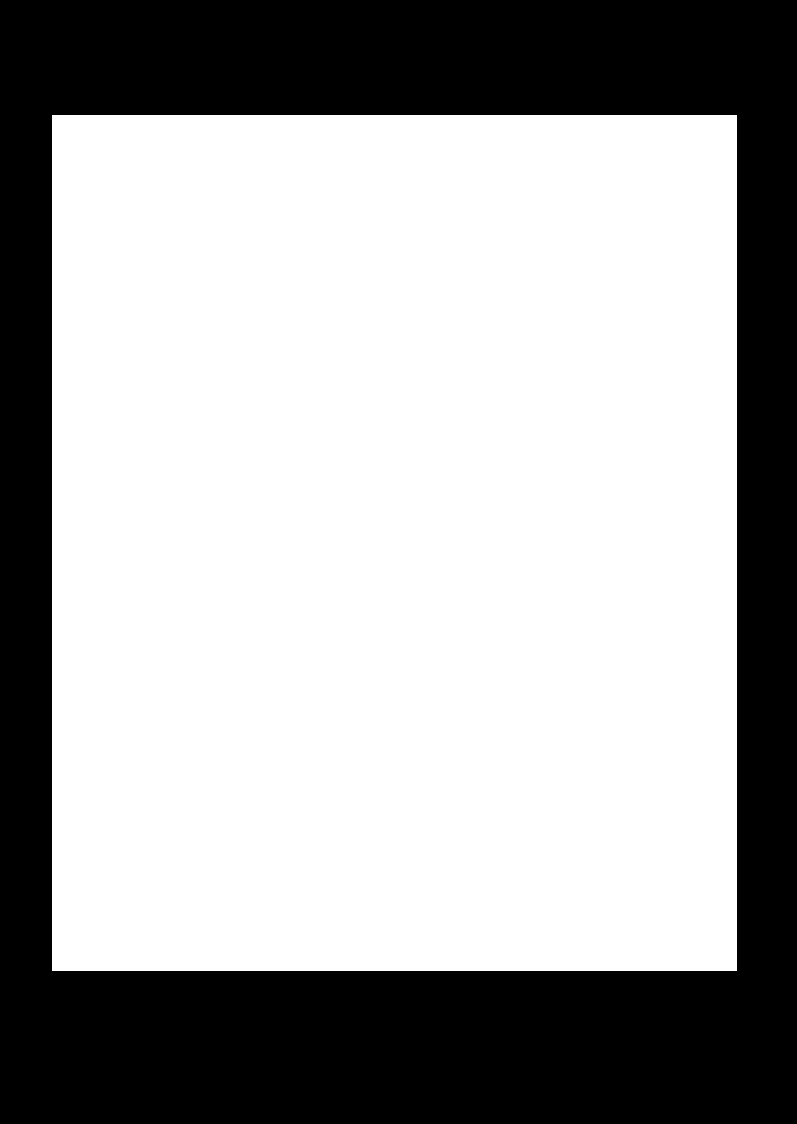table: (52, 115, 736, 970)
